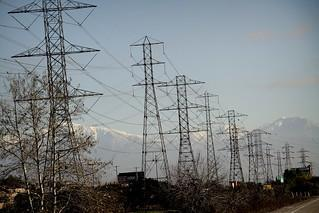power_tower: (7, 1, 101, 186), (128, 34, 174, 188), (165, 74, 208, 189), (221, 104, 248, 186), (250, 126, 274, 184)
